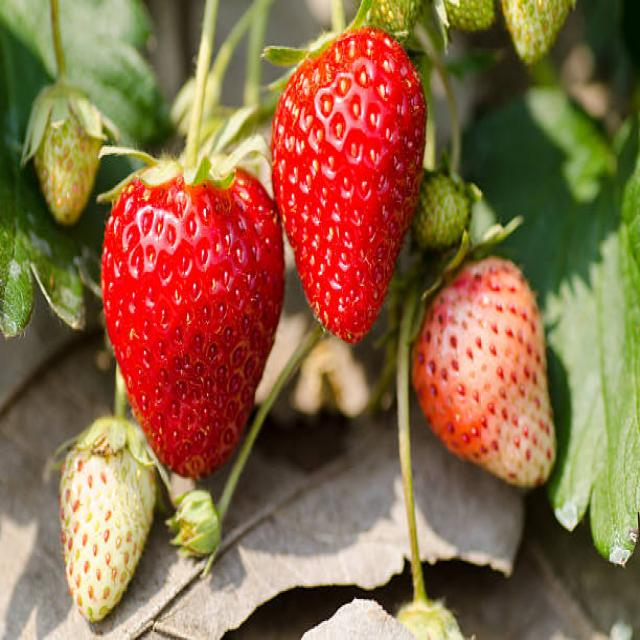Healthy Fruit: (101, 168, 287, 479), (272, 27, 427, 341), (411, 257, 558, 488), (59, 444, 157, 620)
